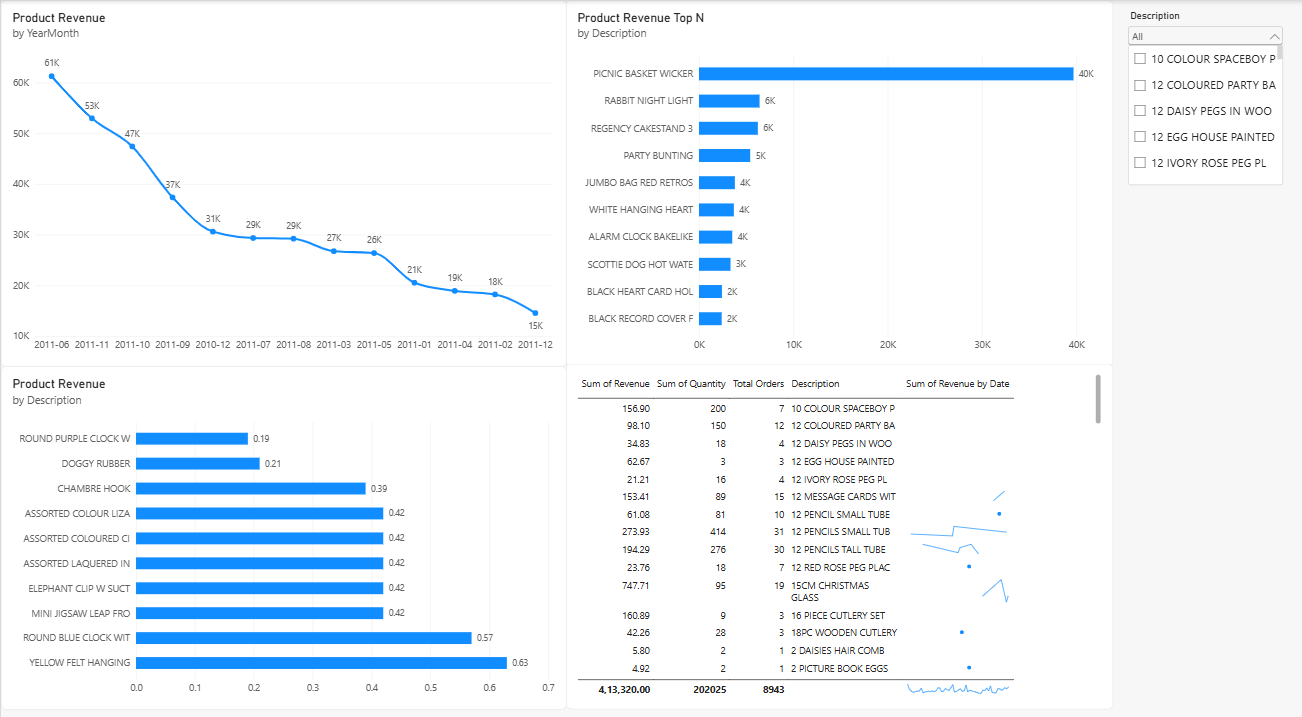

What the dashboard file says about the page in this screenshot:
{"tool":"powerbi","page":{"name":"Product Intelligence","canvas":[1920,1080],"ordinal":3},"visuals":[{"type":"clusteredBarChart","fields":{"Category":["dim_product.Description"],"Y":["Top N.Product Revenue Top N"]},"box":[832.7,0,805.5,540],"z":0},{"type":"clusteredBarChart","fields":{"Category":["dim_product.Description"],"Y":["dim_product.Product Revenue"]},"box":[0,540,832.7,505.5],"z":1000},{"type":"tableEx","fields":{"Values":["Sum(retail_clean.Revenue)","Sum(retail_clean.Quantity)","retail_clean.Total Orders","retail_clean.Description","SparklineData(Sum(retail_clean.Revenue)_[dim_date.Date])"]},"box":[832.7,536.4,805.5,509.1],"z":2000},{"type":"lineChart","fields":{"Category":["dim_date.YearMonth"],"Y":["dim_product.Product Revenue"]},"box":[0,0,832.7,540],"z":3000},{"type":"slicer","fields":{"Values":["dim_product.Description"]},"box":[1654.5,14.5,238.2,83.6],"z":4000}]}

Visuals, with their boxes in screenshot pixels (x1, y1, x2, y2), scaled from the page's 1920x1080 canvas onto the 1302x717 screenshot:
clusteredBarChart - dim_product.Description x Top N.Product Revenue Top N: (left=565, top=0, right=1111, bottom=358)
clusteredBarChart - dim_product.Description x dim_product.Product Revenue: (left=0, top=358, right=565, bottom=694)
tableEx - Sum(retail_clean.Revenue) x Sum(retail_clean.Quantity): (left=565, top=356, right=1111, bottom=694)
lineChart - dim_date.YearMonth x dim_product.Product Revenue: (left=0, top=0, right=565, bottom=358)
slicer - dim_product.Description: (left=1122, top=10, right=1283, bottom=65)
